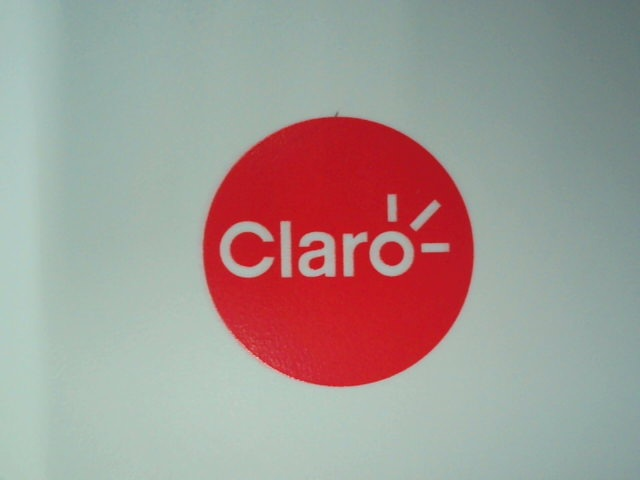BC_ClaorRed: (196, 112, 489, 392)
